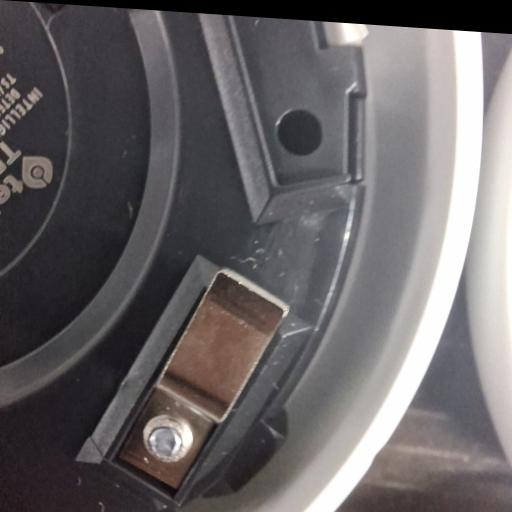yaysiz: (113, 257, 289, 501)
